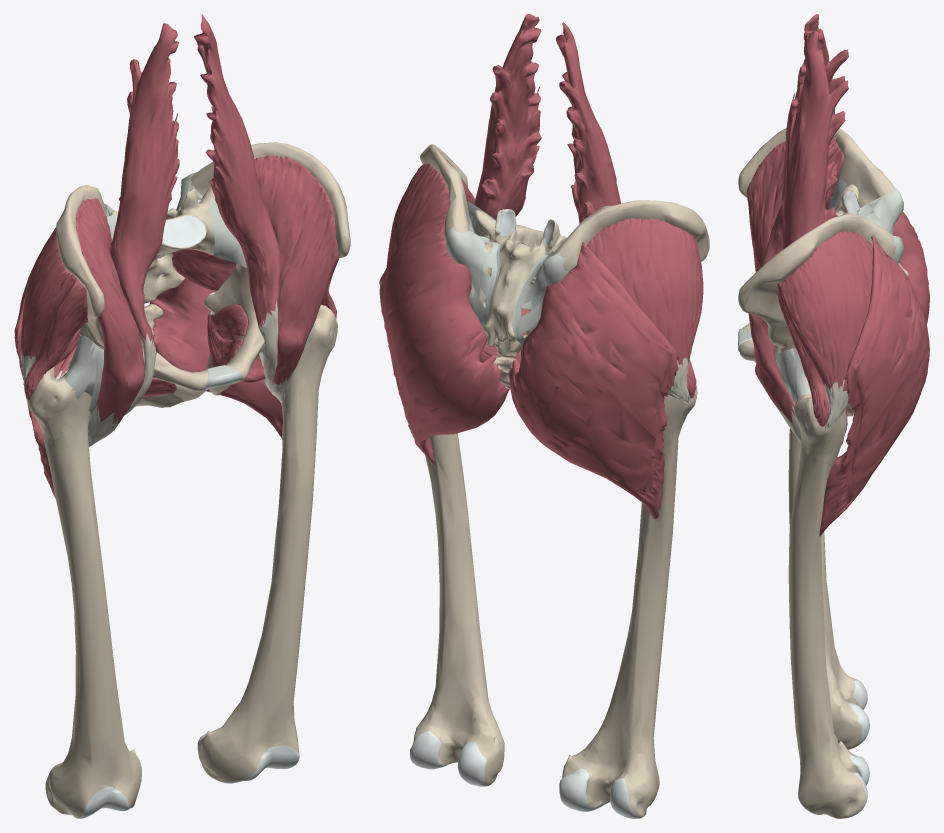
The model's file is hip.glb.
3 views of the same model, side by side, from view 1: azimuth 30°, elevation 25°; view 2: azimuth 150°, elevation 25°; view 3: azimuth 270°, elevation 25° (orthographic). The views are drawn at different scales.
Parts seen in each view (by area): view 1: za-ebb15e1f4911, za-b9d73c3c84a7, za-c4d8dae87a85, za-dcb37970a81f, za-2b1ab0ddc940, za-8ddf23fc92a1, za-db4c9d48439b, za-5904807f8c7d, za-43545666d494, za-cc11824f98a0, za-2c9db76f390d, za-5b406d40c187 (+6 smaller); view 2: za-98e8733790d1, za-db4c9d48439b, za-ebb15e1f4911, za-b9d73c3c84a7, za-cc11824f98a0, za-2b1ab0ddc940, za-2c9db76f390d, za-c4d8dae87a85, za-43545666d494, za-98cfd2e47395, za-7ae3b960e024, za-39f7c973b5a8 (+1 smaller); view 3: za-b9d73c3c84a7, za-db4c9d48439b, za-98cfd2e47395, za-2b1ab0ddc940, za-5904807f8c7d, za-ebb15e1f4911, za-8ddf23fc92a1, za-43545666d494, za-c4d8dae87a85, za-dcb37970a81f, za-98e8733790d1, za-021b26190ea6 (+4 smaller).
Part boxes in pixels (left/top/right/bottom): za-ebb15e1f4911: left=27, top=367, right=141, bottom=818; za-b9d73c3c84a7: left=197, top=305, right=337, bottom=783; za-c4d8dae87a85: left=89, top=23, right=179, bottom=419; za-dcb37970a81f: left=254, top=155, right=338, bottom=403; za-2b1ab0ddc940: left=194, top=14, right=280, bottom=391; za-8ddf23fc92a1: left=76, top=198, right=144, bottom=446; za-db4c9d48439b: left=149, top=278, right=282, bottom=438; za-5904807f8c7d: left=190, top=142, right=350, bottom=395; za-43545666d494: left=55, top=185, right=208, bottom=407; za-cc11824f98a0: left=20, top=227, right=76, bottom=403; za-2c9db76f390d: left=110, top=187, right=216, bottom=303; za-5b406d40c187: left=24, top=278, right=88, bottom=400; za-98e8733790d1: left=509, top=242, right=679, bottom=519; za-db4c9d48439b: left=379, top=211, right=509, bottom=465; za-ebb15e1f4911: left=559, top=384, right=697, bottom=818; za-b9d73c3c84a7: left=409, top=433, right=504, bottom=786; za-cc11824f98a0: left=586, top=218, right=703, bottom=403; za-2b1ab0ddc940: left=474, top=14, right=541, bottom=219; za-2c9db76f390d: left=471, top=209, right=567, bottom=357; za-c4d8dae87a85: left=556, top=22, right=620, bottom=223; za-43545666d494: left=552, top=200, right=709, bottom=271; za-98cfd2e47395: left=386, top=163, right=449, bottom=266; za-7ae3b960e024: left=446, top=226, right=500, bottom=335; za-39f7c973b5a8: left=511, top=251, right=568, bottom=345; za-b9d73c3c84a7: left=786, top=376, right=869, bottom=818; za-db4c9d48439b: left=819, top=236, right=929, bottom=536; za-98cfd2e47395: left=777, top=231, right=872, bottom=430; za-2b1ab0ddc940: left=781, top=31, right=848, bottom=249; za-5904807f8c7d: left=738, top=212, right=895, bottom=416; za-ebb15e1f4911: left=788, top=428, right=869, bottom=749; za-8ddf23fc92a1: left=746, top=141, right=843, bottom=272; za-43545666d494: left=738, top=128, right=899, bottom=329; za-c4d8dae87a85: left=760, top=14, right=848, bottom=267; za-dcb37970a81f: left=748, top=313, right=801, bottom=441; za-98e8733790d1: left=893, top=211, right=929, bottom=323; za-021b26190ea6: left=778, top=293, right=830, bottom=426.
Bounding box in the file's own units: 0.3007 × 0.7256 × 0.1682.
